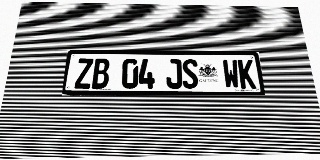0: (121, 59, 138, 89)
4: (138, 59, 155, 89)
B: (92, 58, 110, 89)
J: (166, 59, 182, 89)
K: (238, 59, 256, 89)
S: (182, 59, 199, 89)
W: (222, 59, 240, 89)
Z: (74, 58, 93, 89)
